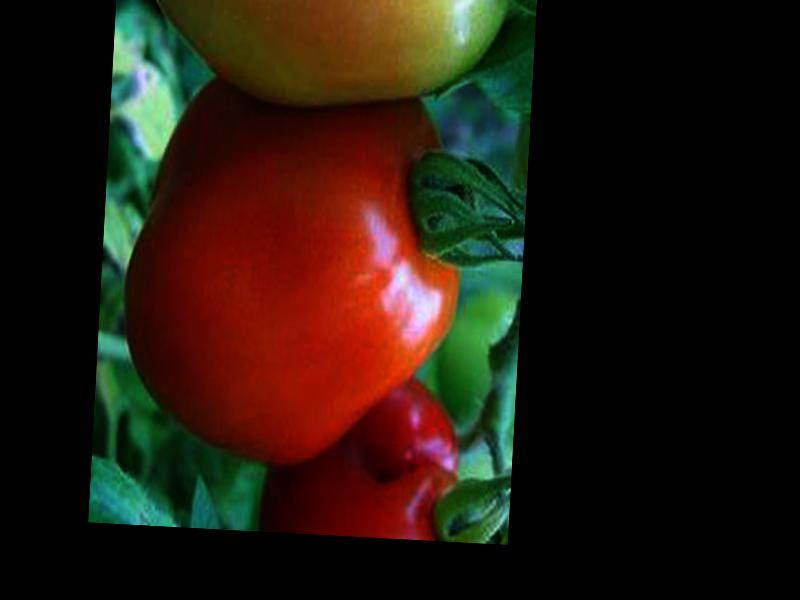Tomato: (116, 91, 467, 475)
